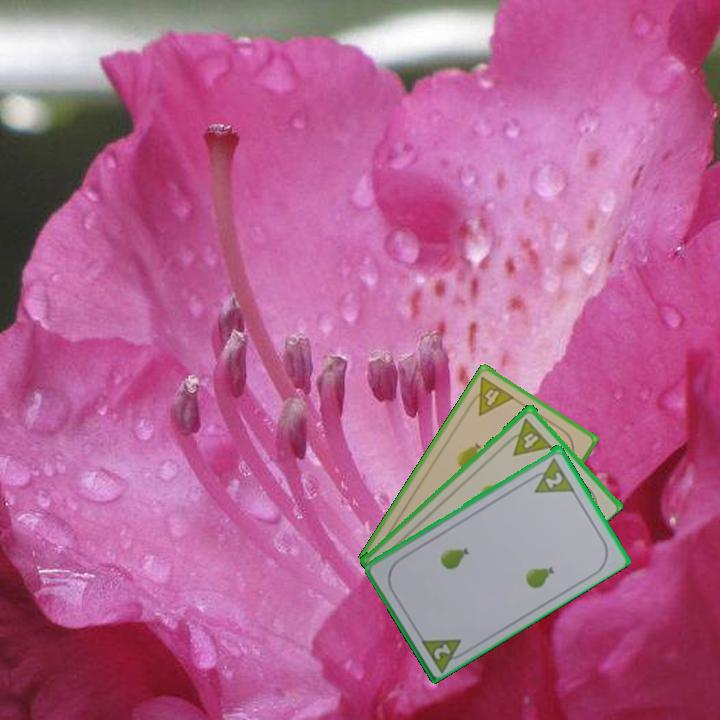2p: (417, 633, 471, 674), (524, 454, 576, 496)
4p: (464, 373, 517, 418), (501, 414, 554, 458)
